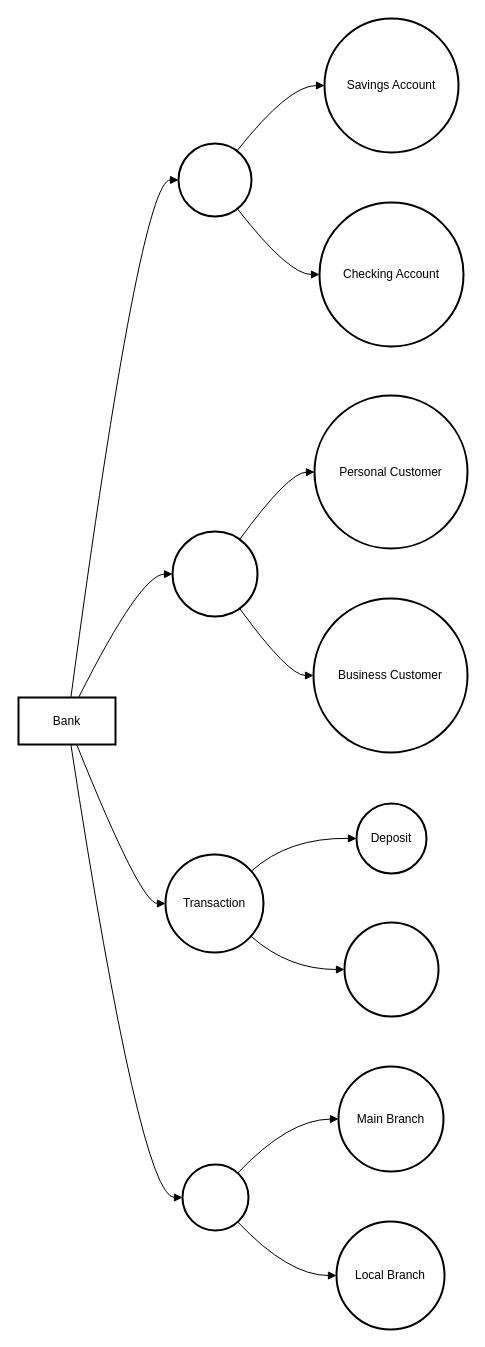
This 485x1347 diagram has some shape labels left out. The shapes that lost their labels are listed below. From the top down, each one's box as (x1, y1, x2, y2) in pixels, then its label:
(177, 142, 252, 217): Account
(171, 530, 258, 617): Customer
(343, 921, 439, 1017): Withdrawal
(181, 1163, 249, 1231): Branch
